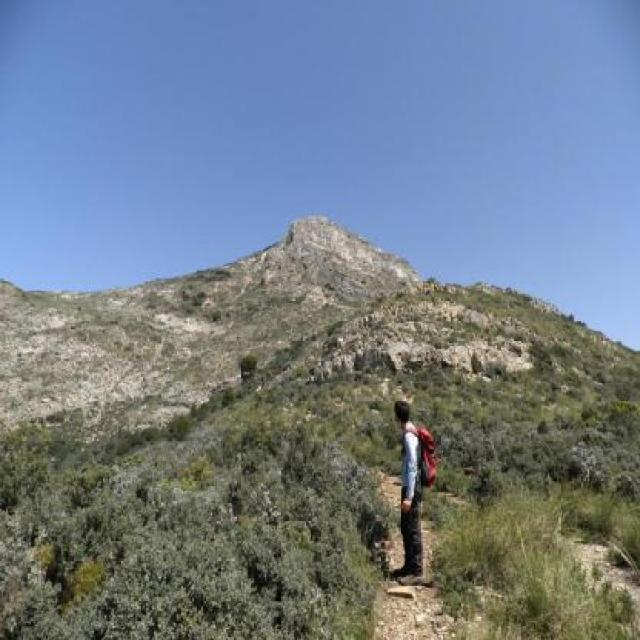backpack: (416, 426, 438, 491)
